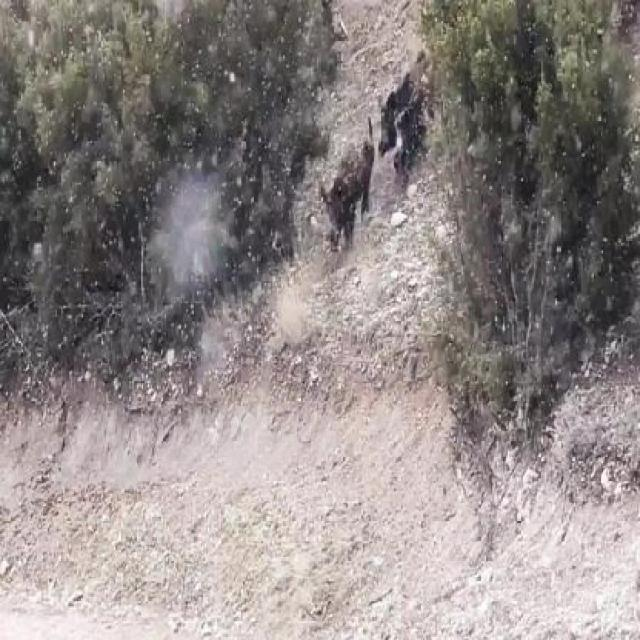pig: (309, 104, 351, 248), (372, 54, 408, 127), (394, 95, 418, 177)
